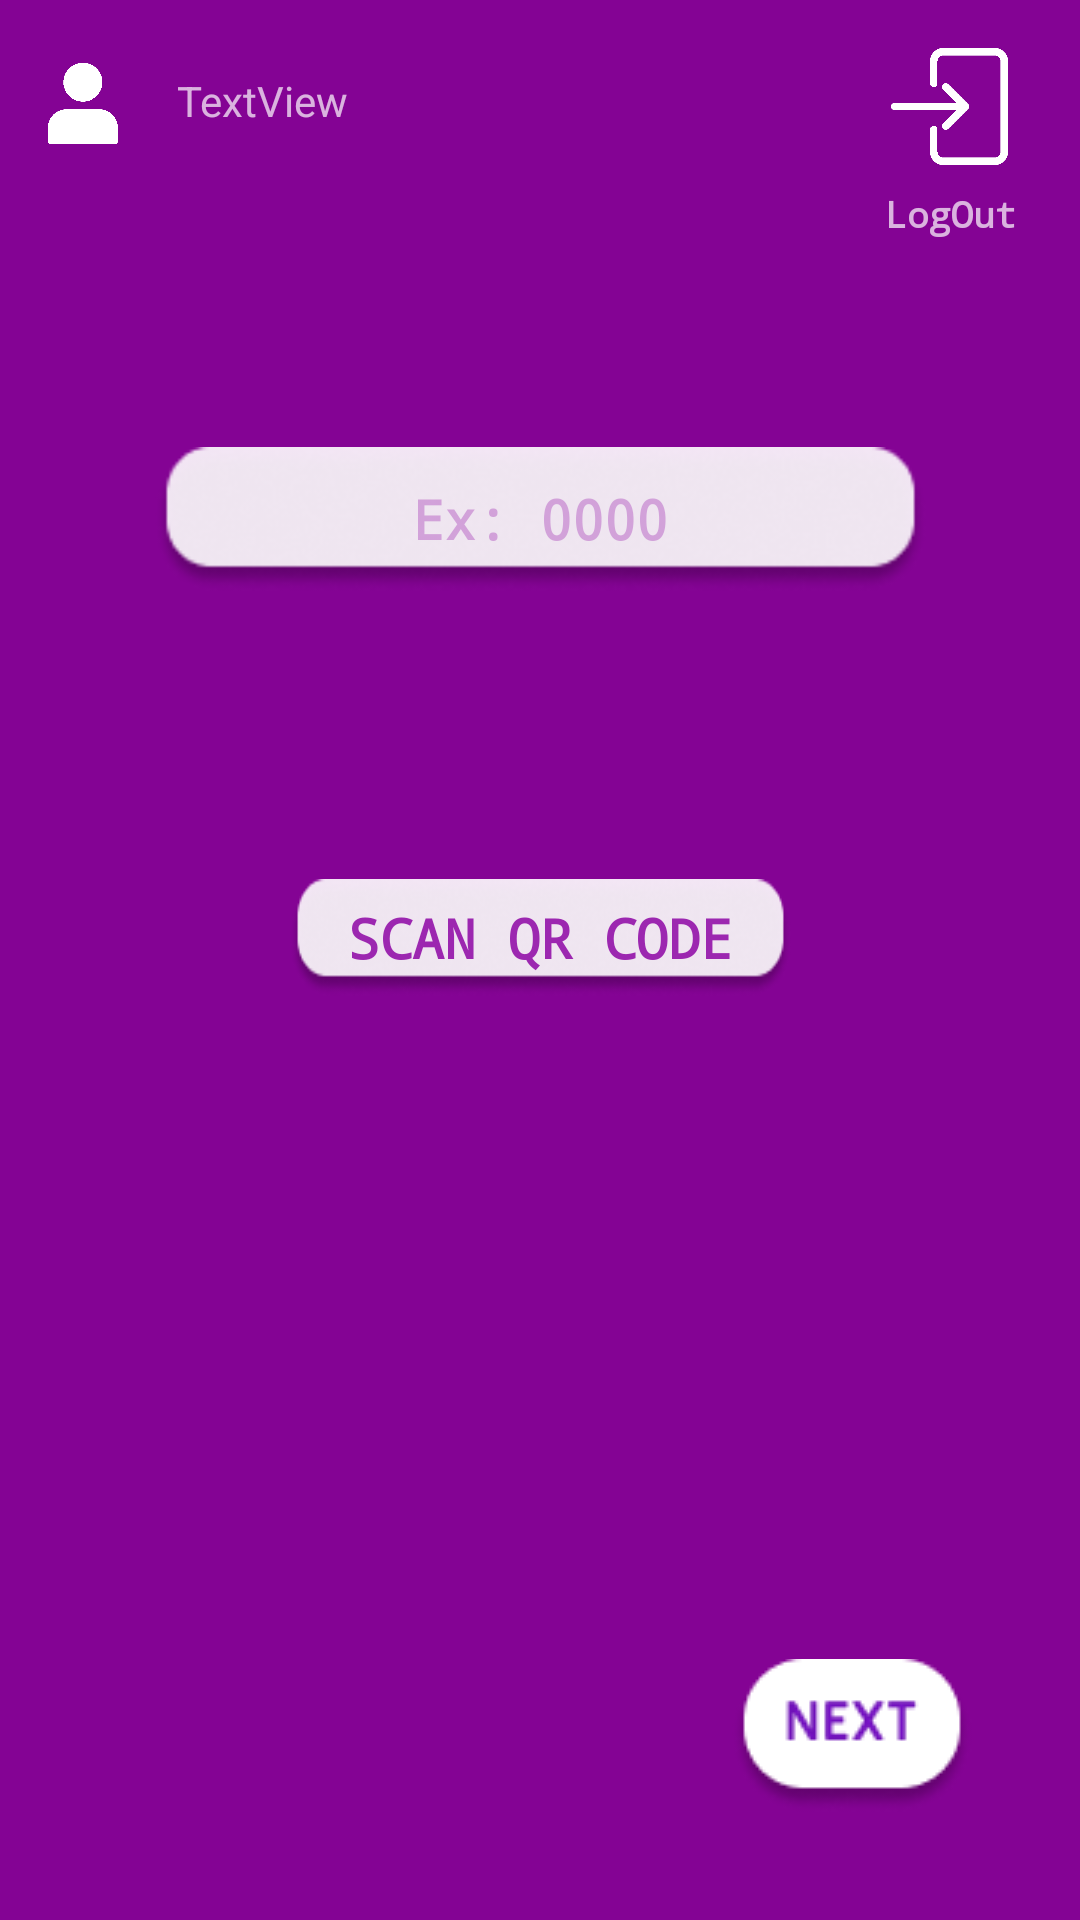

Named icons in this screenshot (1080 x 1920) and their centers, point (x, y):
user: point (83, 103)
